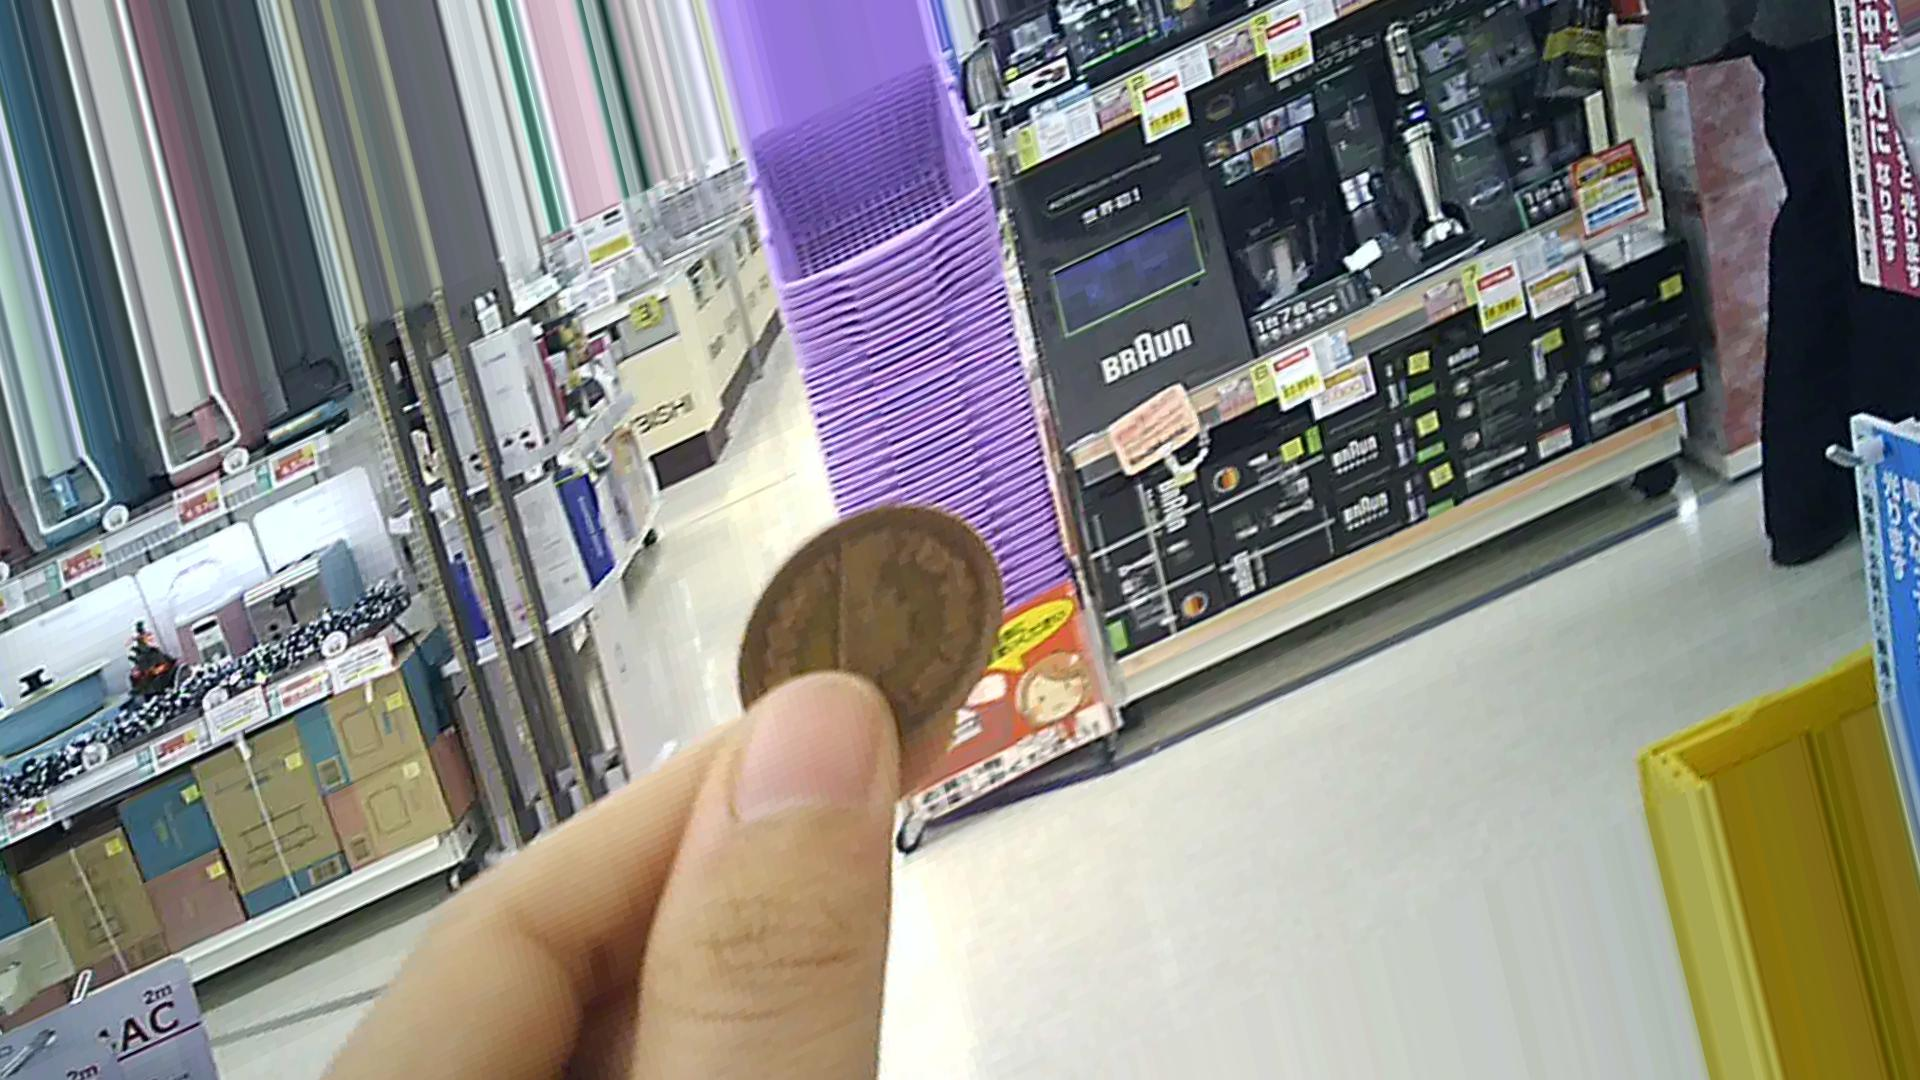10 Yen: (720, 501, 1007, 793)
